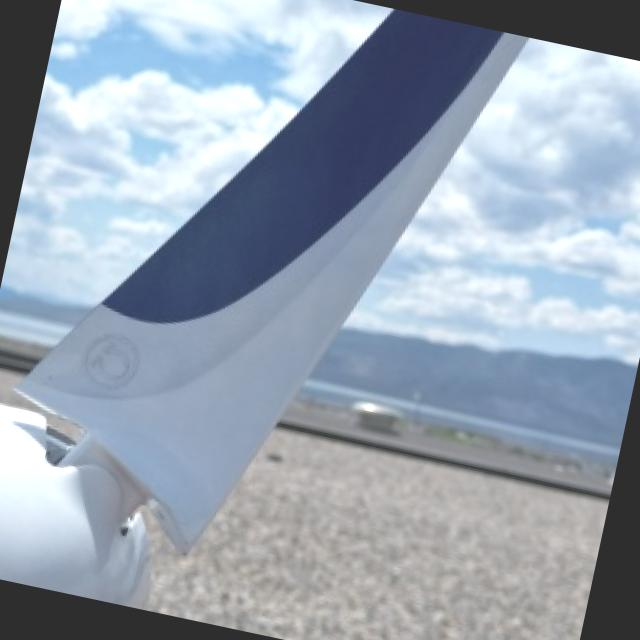healthy: (0, 8, 523, 607), (147, 427, 607, 640)
